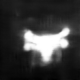plane: (21, 26, 72, 66)
